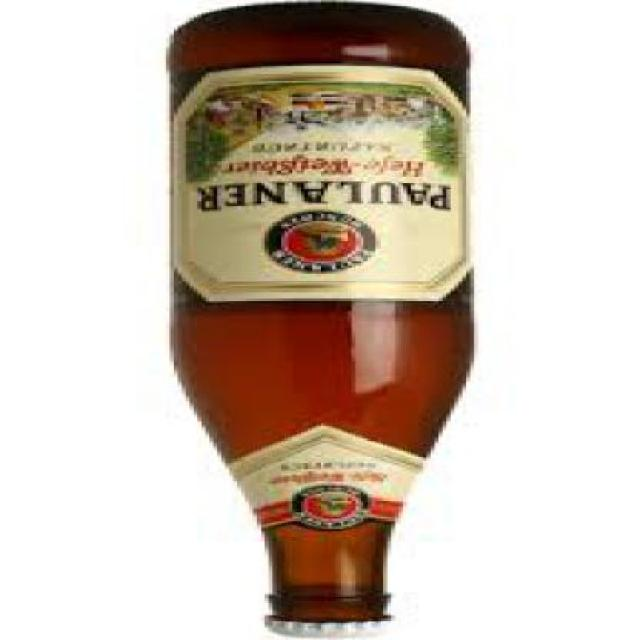GLASS: (174, 2, 481, 621)
METAL: (272, 617, 396, 638)
